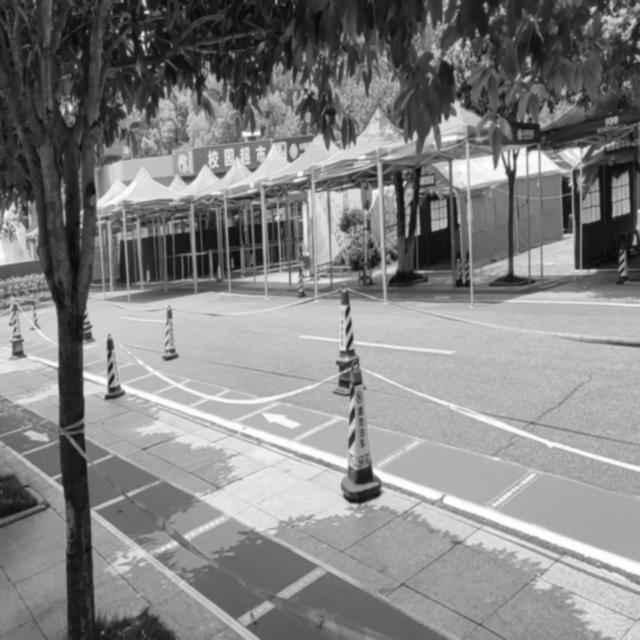reflective_cone: (340, 360, 382, 502), (335, 282, 359, 365), (102, 332, 126, 398), (162, 304, 178, 359), (9, 301, 25, 343), (615, 239, 629, 285), (454, 248, 464, 287), (29, 298, 40, 329), (296, 265, 306, 297), (144, 264, 151, 284), (216, 260, 222, 282)
